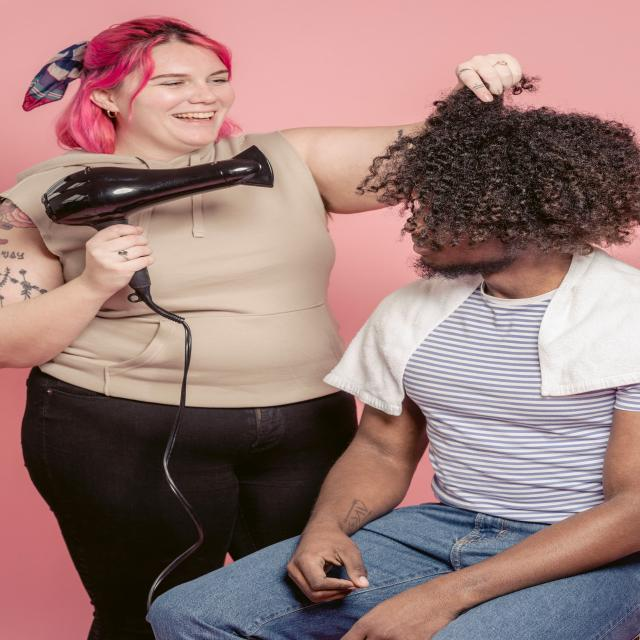dryer: (41, 144, 280, 322)
